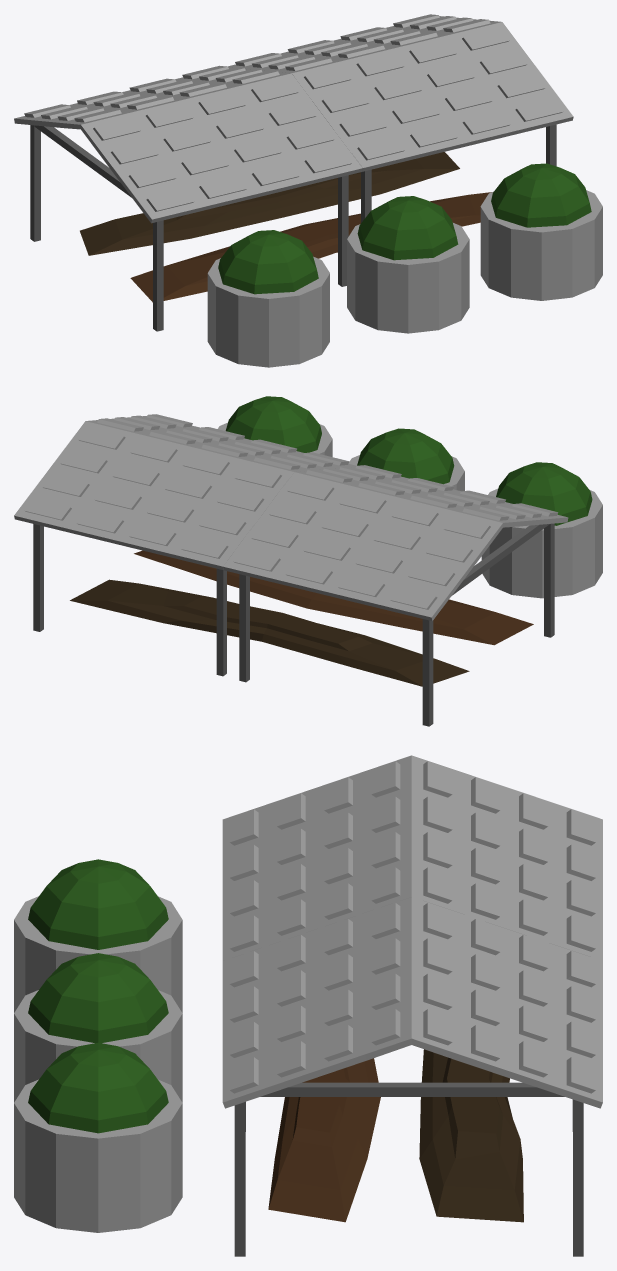
The model's file is compost.fbx.
The picture shows the model from 3 angles, top to bottom: view 1: azimuth 30°, elevation 25°; view 2: azimuth 150°, elevation 25°; view 3: azimuth 270°, elevation 25°; orthographic projection. The views are drawn at different scales.
Visible parts, largest first — view 1: Plane.001, Plane, Cylinder.002, Cylinder, Cylinder.001, Plane.003, Plane.002, Sphere, Sphere.002, Sphere.001, Cube.006, Cube.007 (+3 smaller); view 2: Plane.001, Plane, Plane.003, Cylinder, Plane.002, Sphere, Sphere.002, Sphere.001, Cube.006, Cube.007, Cube.005, Cube.001 (+3 smaller); view 3: Plane, Plane.001, Cylinder.002, Plane.003, Plane.002, Sphere, Sphere.001, Sphere.002, Cylinder, Cylinder.001, Cube.010, Cube (+1 smaller).
Part boxes in pixels (bbox=[...]): Plane.001: bbox=[14, 65, 362, 223]; Plane: bbox=[227, 14, 573, 171]; Cylinder.002: bbox=[480, 190, 602, 300]; Cylinder: bbox=[207, 256, 329, 367]; Cylinder.001: bbox=[347, 223, 469, 333]; Plane.003: bbox=[80, 152, 459, 255]; Plane.002: bbox=[130, 192, 491, 302]; Sphere: bbox=[218, 230, 318, 294]; Sphere.002: bbox=[491, 163, 591, 227]; Sphere.001: bbox=[357, 196, 458, 260]; Cube.006: bbox=[30, 125, 40, 241]; Cube.007: bbox=[153, 220, 163, 331]; Plane.001: bbox=[223, 465, 568, 621]; Plane: bbox=[14, 414, 356, 570]; Plane.003: bbox=[70, 579, 469, 686]; Cylinder: bbox=[481, 488, 602, 598]; Plane.002: bbox=[134, 550, 533, 645]; Sphere: bbox=[496, 462, 592, 525]; Sphere.002: bbox=[225, 396, 321, 452]; Sphere.001: bbox=[357, 428, 454, 484]; Cube.006: bbox=[422, 619, 433, 726]; Cube.007: bbox=[544, 523, 554, 637]; Cube.005: bbox=[239, 574, 249, 682]; Cube.001: bbox=[33, 524, 43, 631]; Plane: bbox=[222, 897, 602, 1108]; Plane.001: bbox=[222, 755, 602, 960]; Cylinder.002: bbox=[14, 1079, 182, 1232]; Plane.003: bbox=[419, 1049, 523, 1222]; Plane.002: bbox=[268, 1058, 380, 1222]; Sphere: bbox=[28, 859, 168, 949]; Sphere.001: bbox=[28, 953, 168, 1043]; Sphere.002: bbox=[28, 1042, 168, 1133]; Cylinder: bbox=[14, 896, 182, 1012]; Cylinder.001: bbox=[14, 990, 182, 1102]; Cube.010: bbox=[260, 1082, 564, 1096]; Cube: bbox=[234, 1102, 245, 1256].
Size of the model in its own units: 2007 by 738 by 1753.
